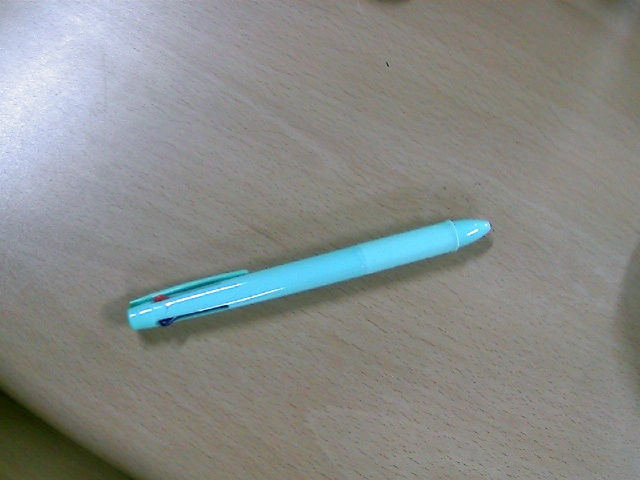pen: (62, 137, 521, 363)
